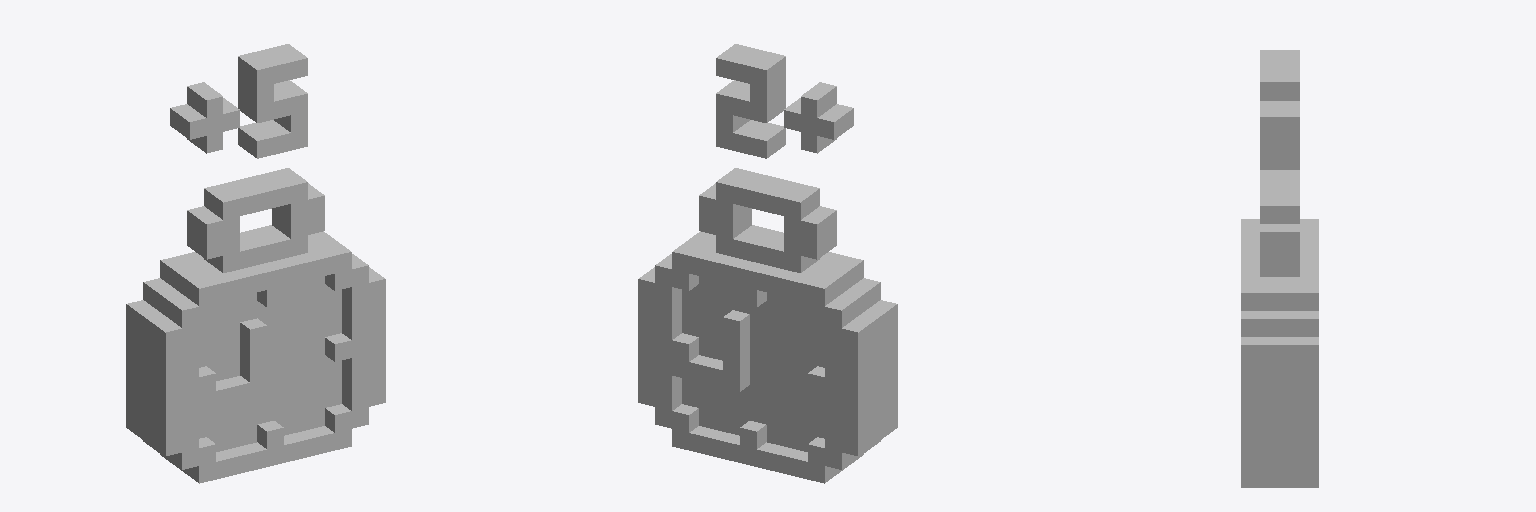
The model's file is Stopwatch 3.obj.
3 renders of one model, left to right at view 1: azimuth 30°, elevation 25°; view 2: azimuth 150°, elevation 25°; view 3: azimuth 270°, elevation 25°, orthographic.
Visible parts, largest first — view 1: object 1; view 2: object 1; view 3: object 1.
Boxes of the visible parts, x1,y1,x2,y2 form: object 1: [126, 44, 385, 483]; object 1: [638, 44, 897, 483]; object 1: [1241, 50, 1318, 487].
Bounding box in the file's own units: 1.3 × 2.2 × 0.4.